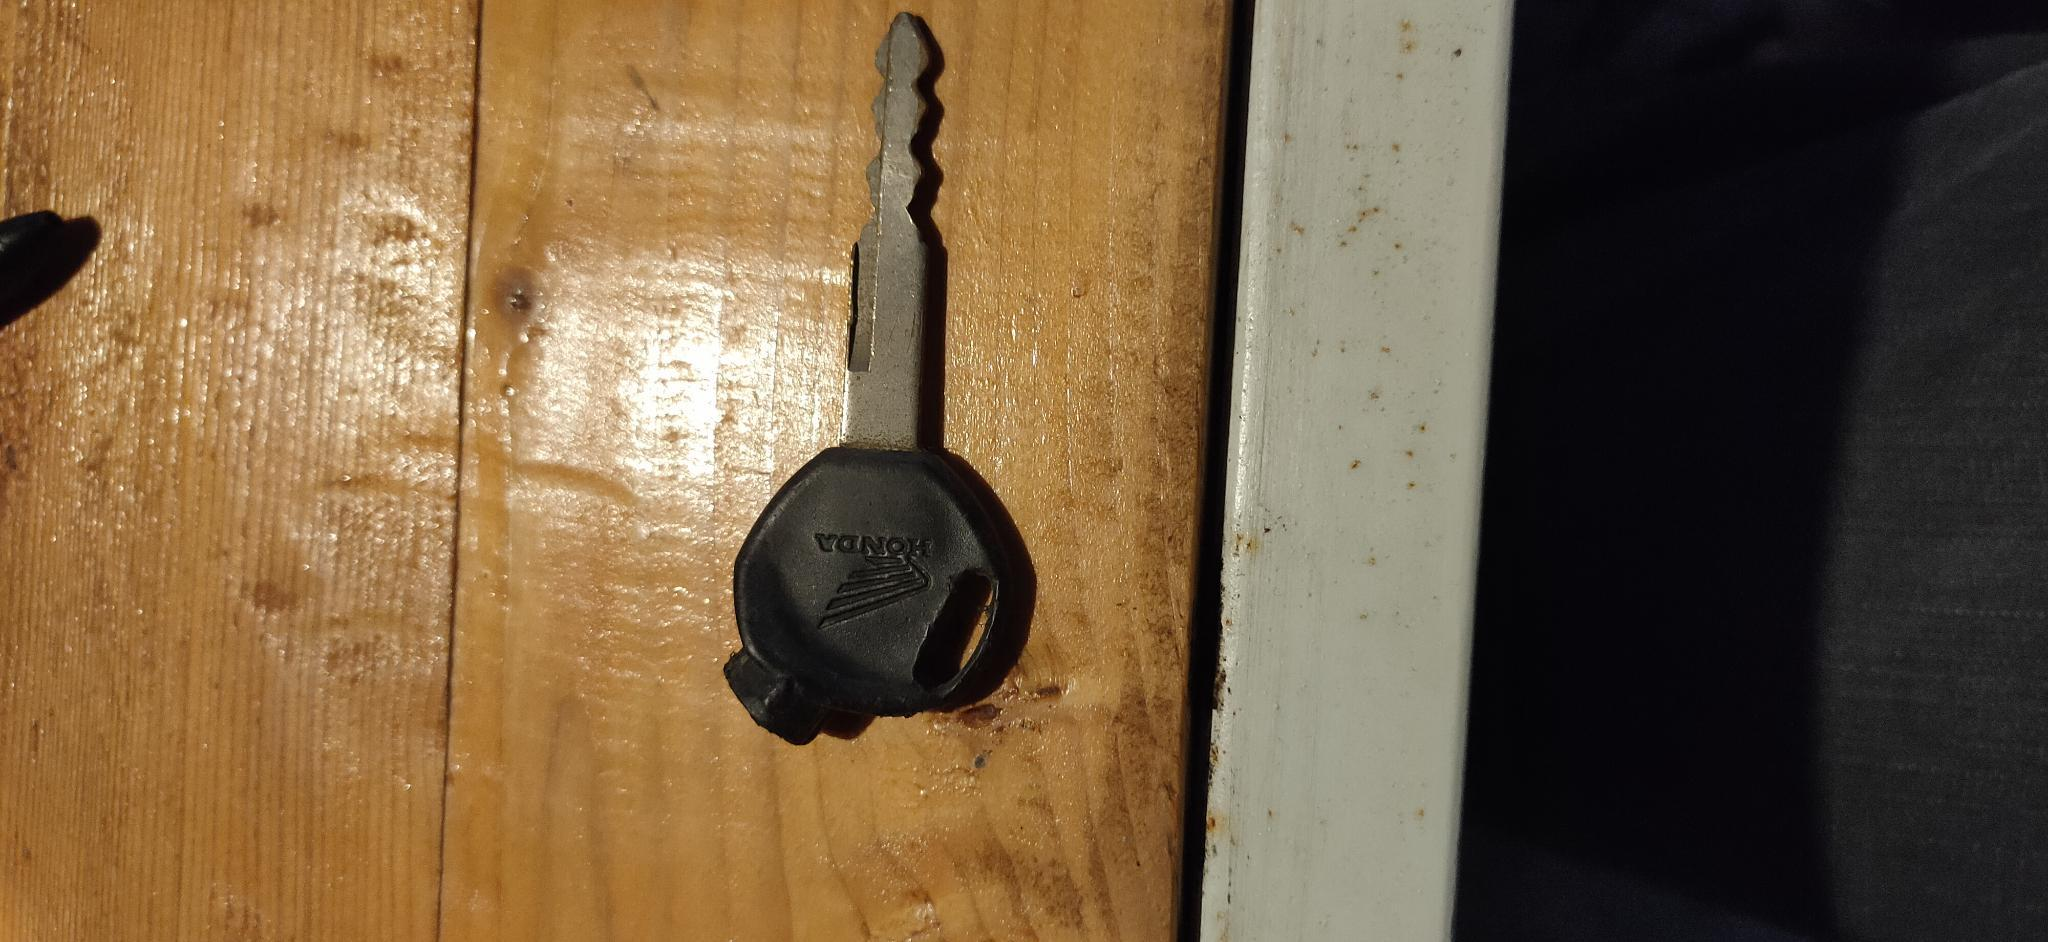keys: (714, 9, 1049, 749)
